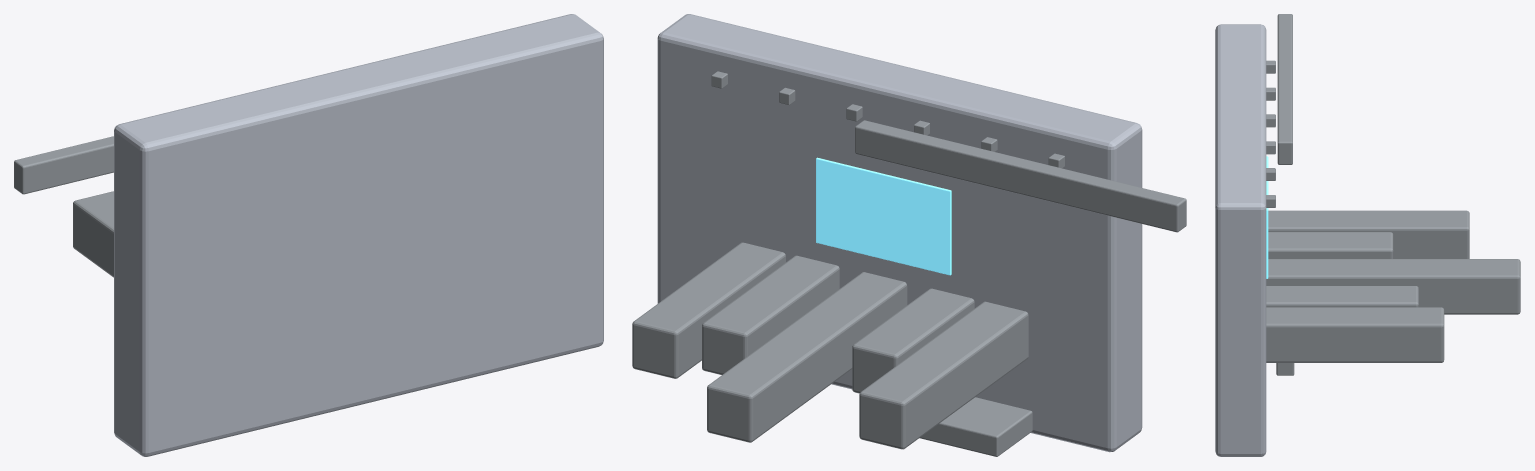
The model's file is place_station_refinery.glb.
3 views of the same model, side by side, from view 1: azimuth 30°, elevation 25°; view 2: azimuth 150°, elevation 25°; view 3: azimuth 270°, elevation 25° (orthographic). The views are drawn at different scales.
Parts seen in each view (by area): view 1: Refinery_Base, Refinery_Pipe_0, Refinery_Stack_8; view 2: Refinery_Base, Refinery_Stack_17, Refinery_Stack_8, Refinery_Pipe_0, Refinery_Slag_Glow, Refinery_Stack_26, Refinery_Stack_22, Refinery_Stack_12, Refinery_Pipe_2; view 3: Refinery_Base, Refinery_Stack_26, Refinery_Stack_17, Refinery_Stack_8, Refinery_Stack_12, Refinery_Stack_22, Refinery_Pipe_0.
Part boxes in pixels (left/top/right/bottom): Refinery_Base: left=114, top=14, right=603, bottom=456; Refinery_Pipe_0: left=14, top=136, right=113, bottom=194; Refinery_Stack_8: left=73, top=191, right=113, bottom=277; Refinery_Base: left=657, top=14, right=1142, bottom=452; Refinery_Stack_17: left=707, top=272, right=907, bottom=442; Refinery_Stack_8: left=859, top=301, right=1028, bottom=449; Refinery_Pipe_0: left=855, top=120, right=1186, bottom=232; Refinery_Slag_Glow: left=816, top=157, right=951, bottom=275; Refinery_Stack_26: left=632, top=242, right=785, bottom=378; Refinery_Stack_22: left=702, top=255, right=839, bottom=374; Refinery_Stack_12: left=852, top=288, right=974, bottom=393; Refinery_Pipe_2: left=919, top=397, right=1032, bottom=456; Refinery_Base: left=1215, top=24, right=1266, bottom=456; Refinery_Stack_26: left=1266, top=307, right=1444, bottom=362; Refinery_Stack_17: left=1266, top=259, right=1520, bottom=314; Refinery_Stack_8: left=1268, top=210, right=1469, bottom=258; Refinery_Stack_12: left=1268, top=232, right=1393, bottom=258; Refinery_Stack_22: left=1266, top=286, right=1418, bottom=307; Refinery_Pipe_0: left=1277, top=14, right=1292, bottom=164.
Bounding box in the file's own units: 40 × 22 × 24.
